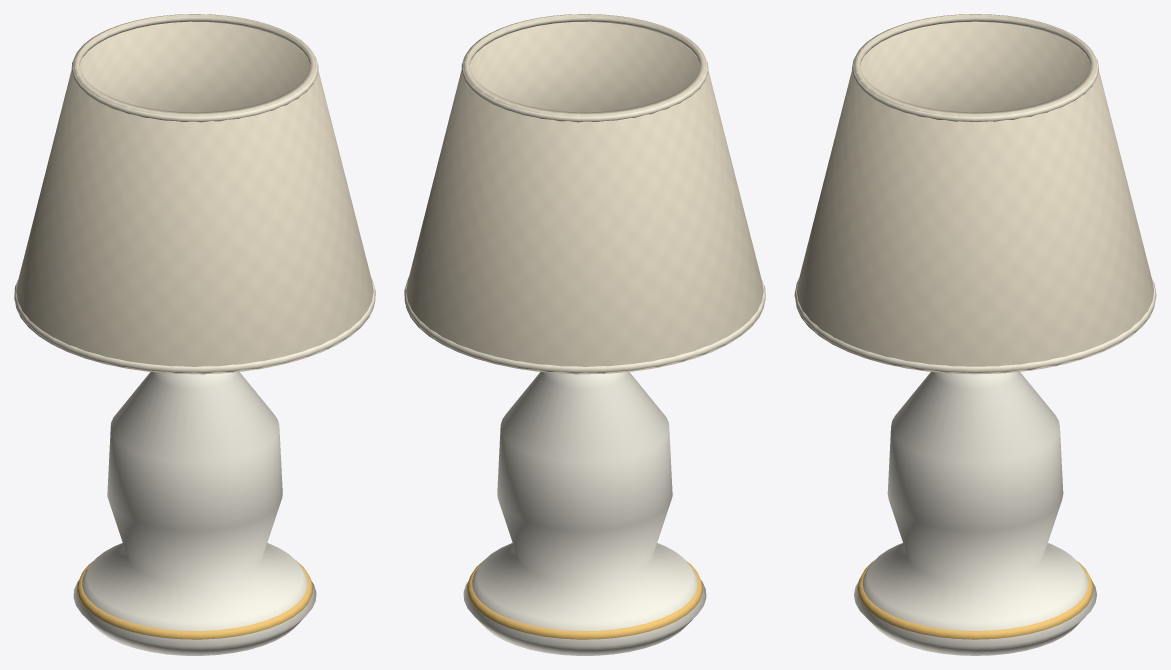
File: LAMP.glb
3 views of the same model, side by side, from view 1: azimuth 30°, elevation 25°; view 2: azimuth 150°, elevation 25°; view 3: azimuth 270°, elevation 25° (orthographic).
Parts seen in each view (by area): view 1: LAMP; view 2: LAMP; view 3: LAMP.
Part boxes in pixels (x1,y1,x2,y2): LAMP: (14, 14, 375, 655); LAMP: (404, 14, 765, 655); LAMP: (794, 14, 1156, 655).
Size of the model in its own units: 0.536 by 0.893 by 0.536.
5 materials, 1 textured.
